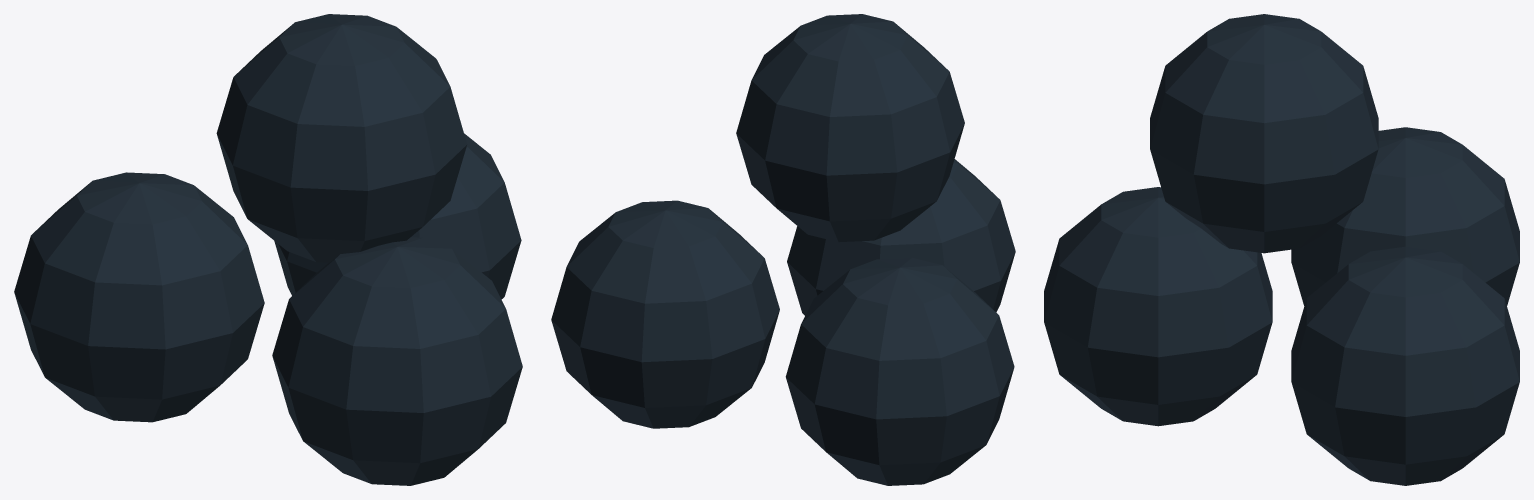
Rendered from equipment-cannonballs.lod0.glb.
3 renders of one model, left to right at view 1: azimuth 30°, elevation 25°; view 2: azimuth 150°, elevation 25°; view 3: azimuth 270°, elevation 25°, orthographic. The views are drawn at different scales.
Parts seen in each view (by area): view 1: equipment-cannonballs__body; view 2: equipment-cannonballs__body; view 3: equipment-cannonballs__body.
Boxes of the visible parts, x1=… form: equipment-cannonballs__body: x1=14, y1=14, x2=522, y2=485; equipment-cannonballs__body: x1=551, y1=14, x2=1015, y2=485; equipment-cannonballs__body: x1=1044, y1=14, x2=1519, y2=485.
Size of the model in its own units: 0.74 by 0.61 by 0.6734.
